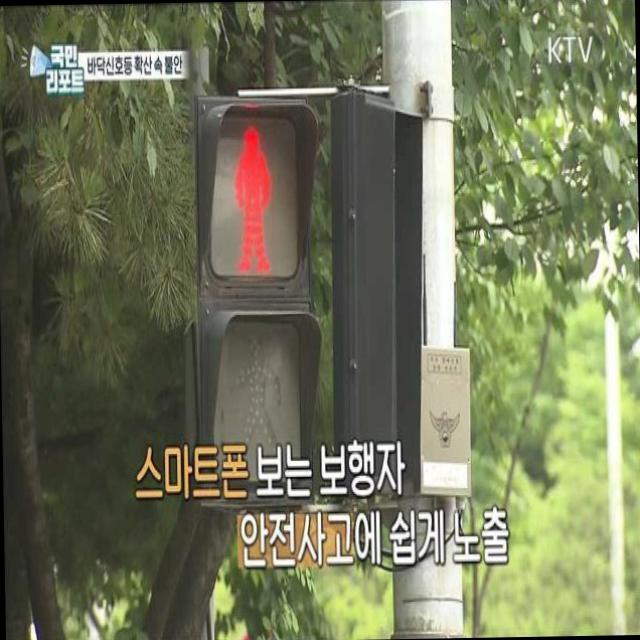red_light: (218, 114, 288, 274)
